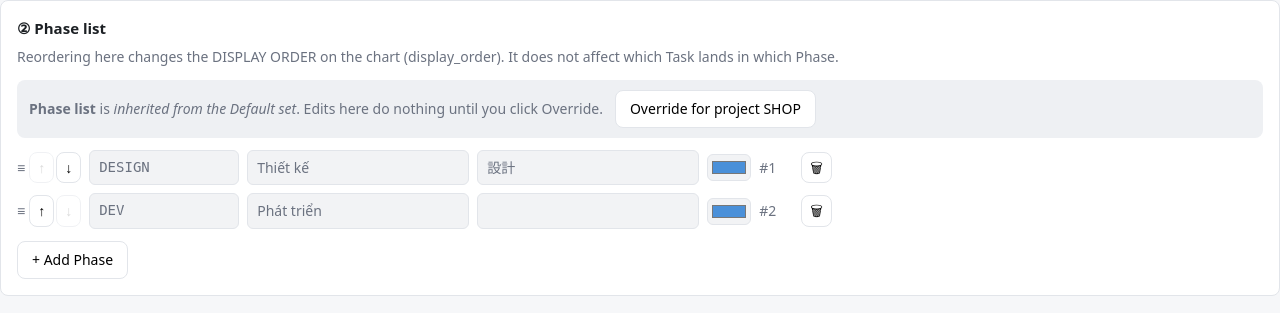
it: kế thừa từ bộ Mặc định › bấm Ghi đè thì mở khoá các ô và nhãn biến mất
The image size is (1280, 313).
Click the button "Override for project SHOP" at (715,109), box [615,90,816,128]
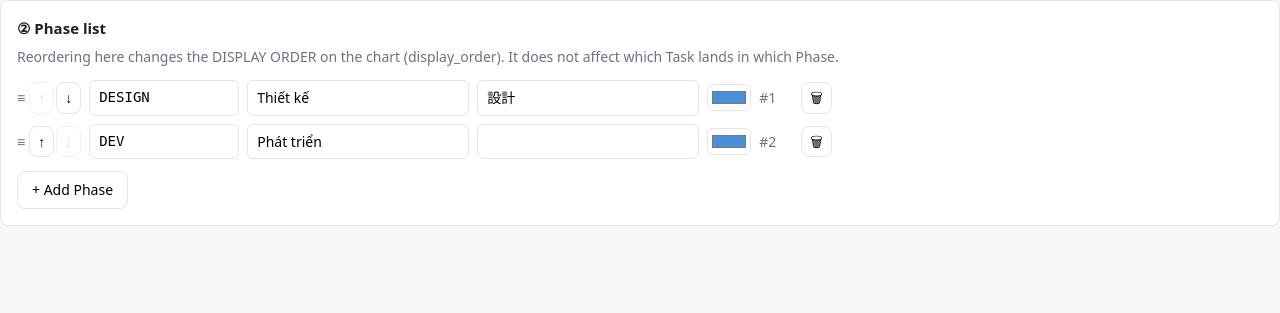
Check: the text "inherited from the Default set" is gone
